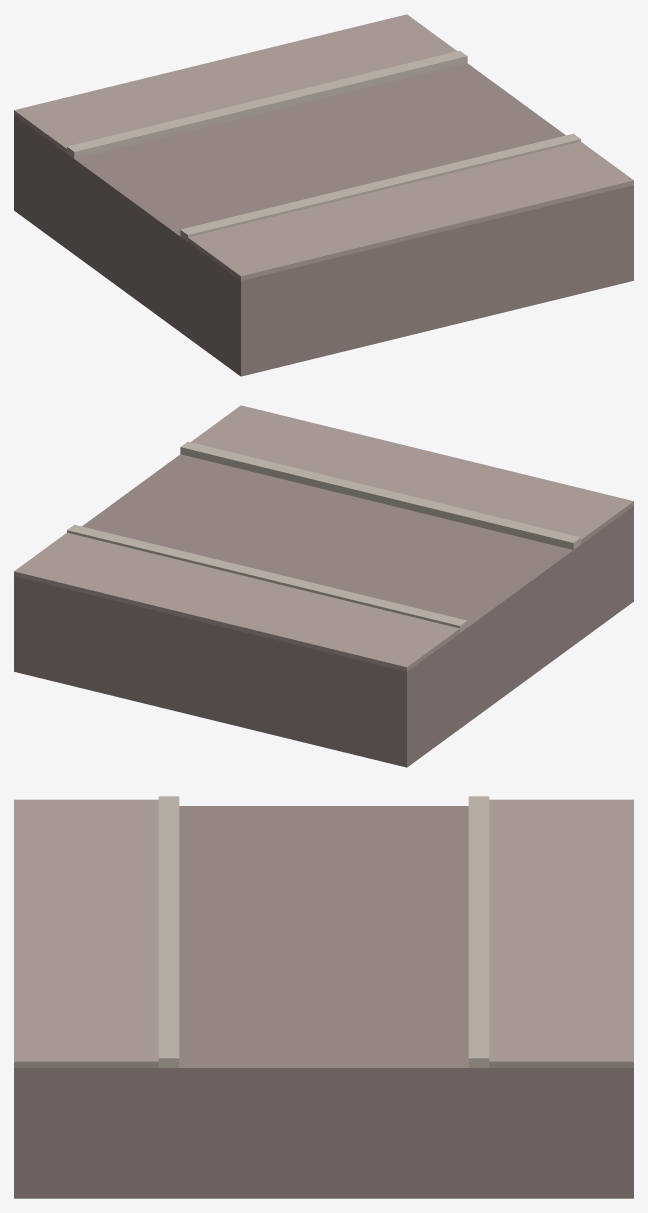
Rendered from Road_Regular.fbx.
3 views of the same model, one above another, from view 1: azimuth 30°, elevation 25°; view 2: azimuth 150°, elevation 25°; view 3: azimuth 270°, elevation 25° (orthographic). The views are drawn at different scales.
Visible parts, largest first — view 1: Road_Regular; view 2: Road_Regular; view 3: Road_Regular.
Part boxes in pixels (left/top/right/bottom): Road_Regular: left=14, top=14, right=633, bottom=376; Road_Regular: left=14, top=405, right=633, bottom=767; Road_Regular: left=14, top=796, right=633, bottom=1198.
Size of the model in its own units: 400 by 100 by 400.
